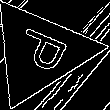P_SE: (6, 25, 74, 80)
